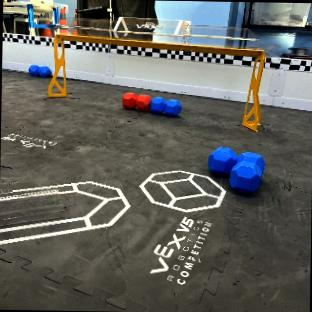V5_BLUE: (208, 146, 265, 193), (150, 97, 180, 115), (28, 66, 50, 75)
V5_RED: (121, 92, 151, 111)
